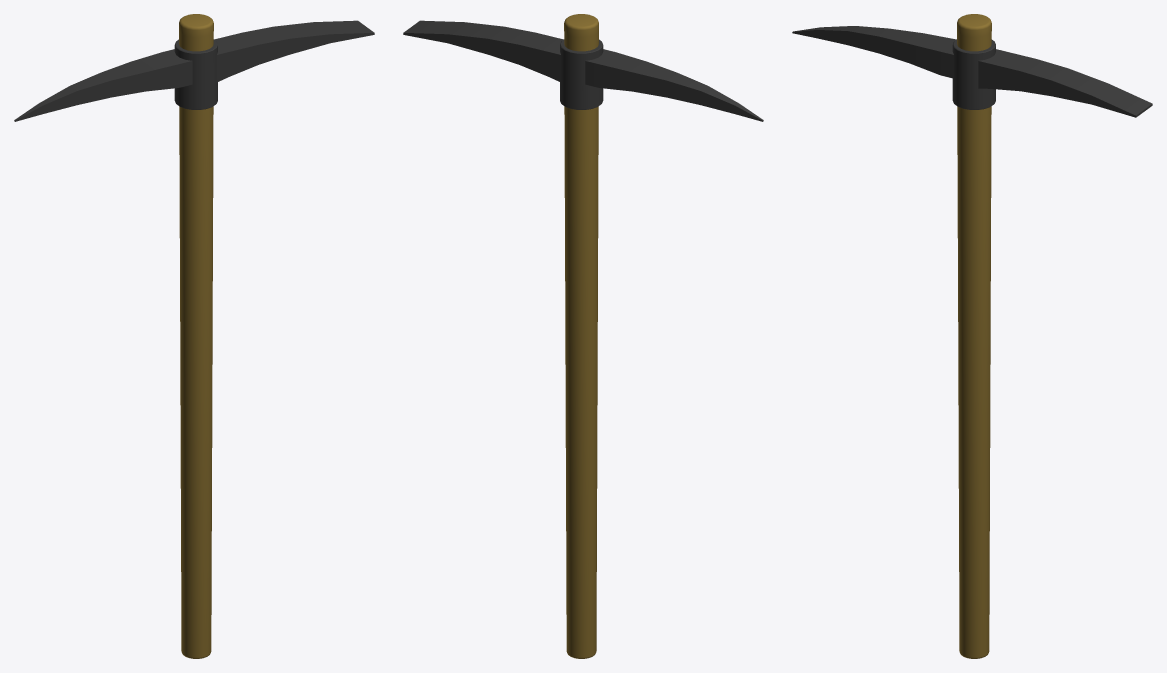
3 views of the same model, side by side, from view 1: azimuth 30°, elevation 25°; view 2: azimuth 150°, elevation 25°; view 3: azimuth 330°, elevation 25° (orthographic).
Parts seen in each view (by area): view 1: Cylinder; view 2: Cylinder; view 3: Cylinder.
Boxes of the visible parts, left/top/right/bottom form: Cylinder: left=14, top=14, right=374, bottom=658; Cylinder: left=403, top=14, right=763, bottom=658; Cylinder: left=792, top=14, right=1152, bottom=658.
Bounding box in the file's own units: 897 × 1544 × 95.65.
